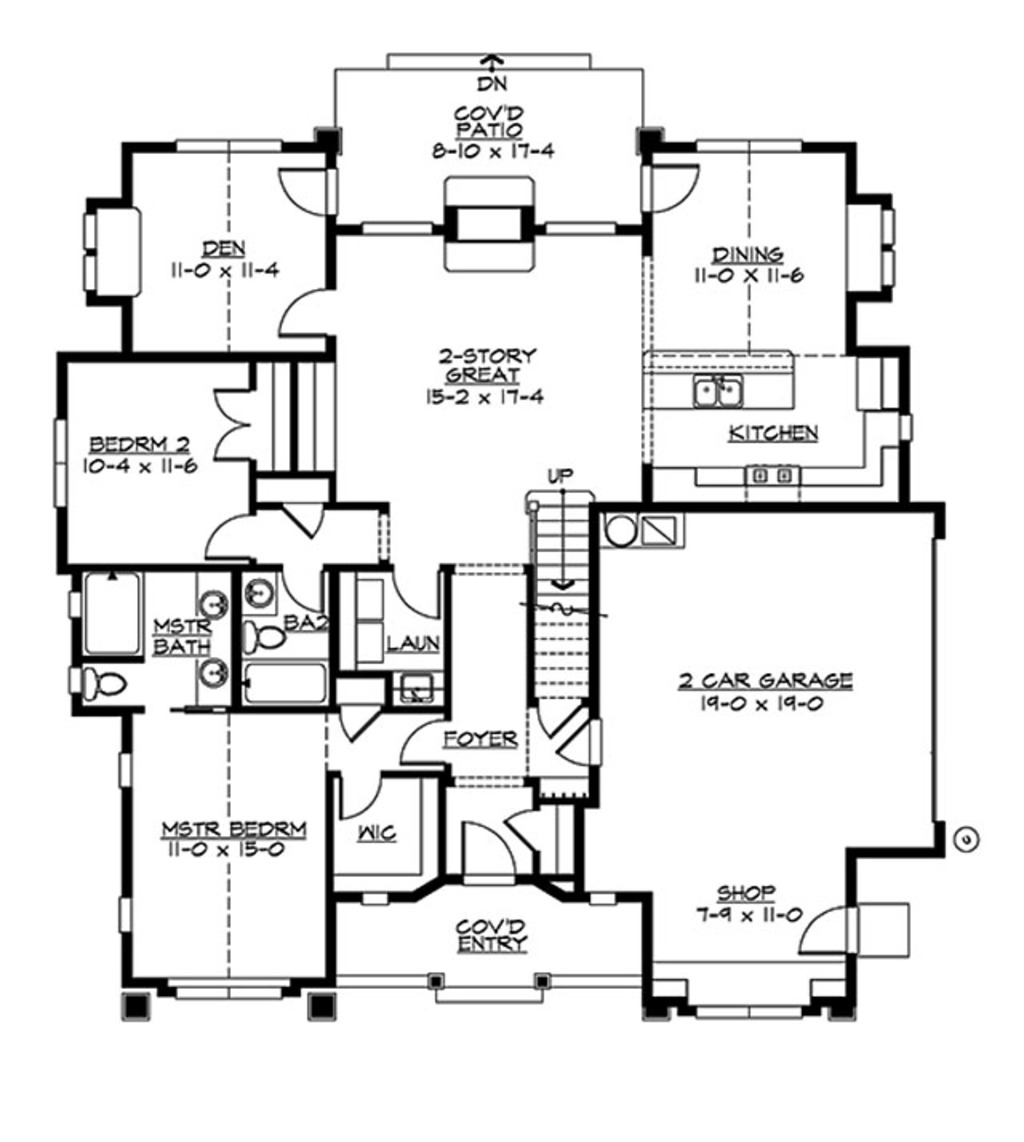door: (185, 378, 271, 473), (269, 157, 353, 222), (265, 278, 346, 339), (639, 160, 721, 220), (199, 501, 267, 564), (462, 817, 523, 885), (383, 564, 441, 629), (271, 553, 332, 611), (799, 904, 853, 964), (400, 713, 455, 767), (551, 717, 602, 773), (506, 801, 548, 867), (332, 699, 392, 739), (536, 694, 592, 736), (278, 497, 334, 538), (334, 773, 383, 818)
large_sink: (76, 660, 144, 711), (230, 620, 302, 659)
sink: (383, 664, 446, 713)
small_sink: (193, 569, 243, 704), (241, 571, 288, 615)
stairs: (513, 487, 609, 694)
tub: (79, 560, 157, 657), (241, 659, 330, 699)
twin_sink: (672, 360, 757, 417)
window: (165, 132, 283, 153), (107, 736, 143, 797), (53, 413, 76, 508)
